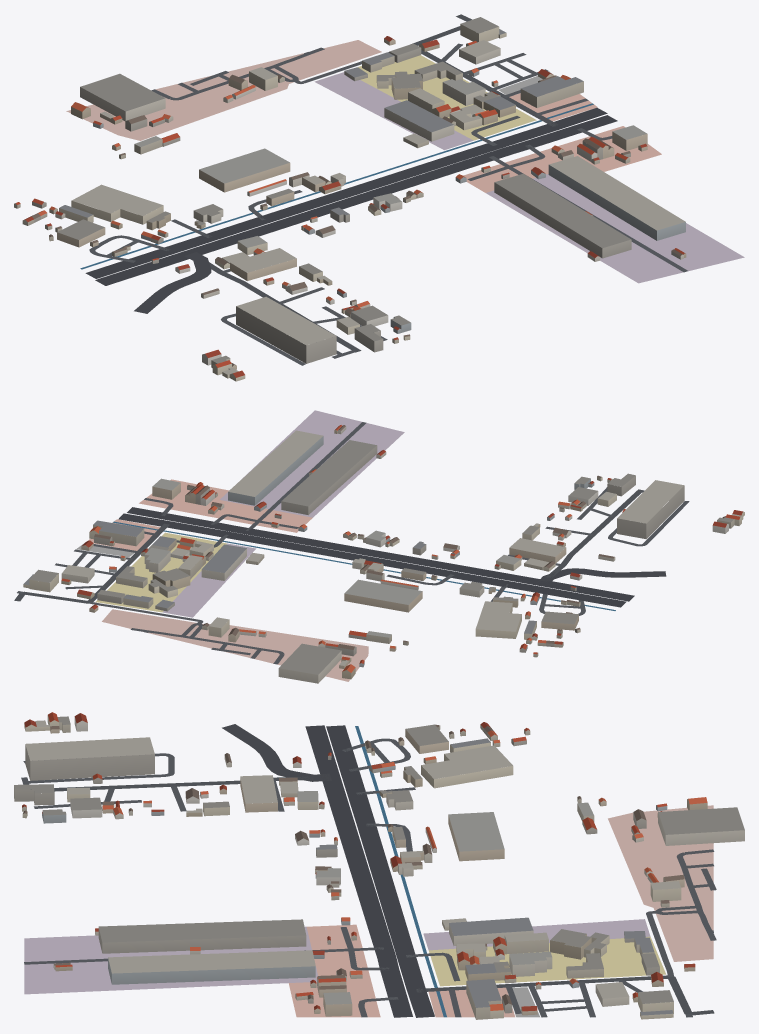
3 renders of one model, top to bottom at view 1: azimuth 30°, elevation 25°; view 2: azimuth 150°, elevation 25°; view 3: azimuth 270°, elevation 25°, orthographic. The views are drawn at different scales.
Parts seen in each view (by area): view 1: buildings_roofs, buildings_walls, landuse, roads, water; view 2: buildings_roofs, buildings_walls, landuse, roads, water; view 3: buildings_roofs, buildings_walls, landuse, roads, water.
Part boxes in pixels (x1,y1,x2,y2): buildings_roofs: [16, 17, 685, 377]; buildings_walls: [14, 24, 686, 381]; landuse: [66, 40, 744, 283]; roads: [85, 14, 687, 365]; water: [80, 103, 593, 269]; buildings_roofs: [23, 425, 742, 674]; buildings_walls: [23, 426, 744, 683]; landuse: [76, 410, 404, 681]; roads: [14, 422, 689, 664]; water: [113, 521, 615, 610]; buildings_roofs: [14, 712, 744, 1015]; buildings_walls: [14, 715, 744, 1019]; landuse: [24, 805, 713, 1017]; roads: [21, 724, 716, 1017]; water: [355, 726, 446, 1017].
Bounding box in the file's own units: 511 × 16 × 530.
